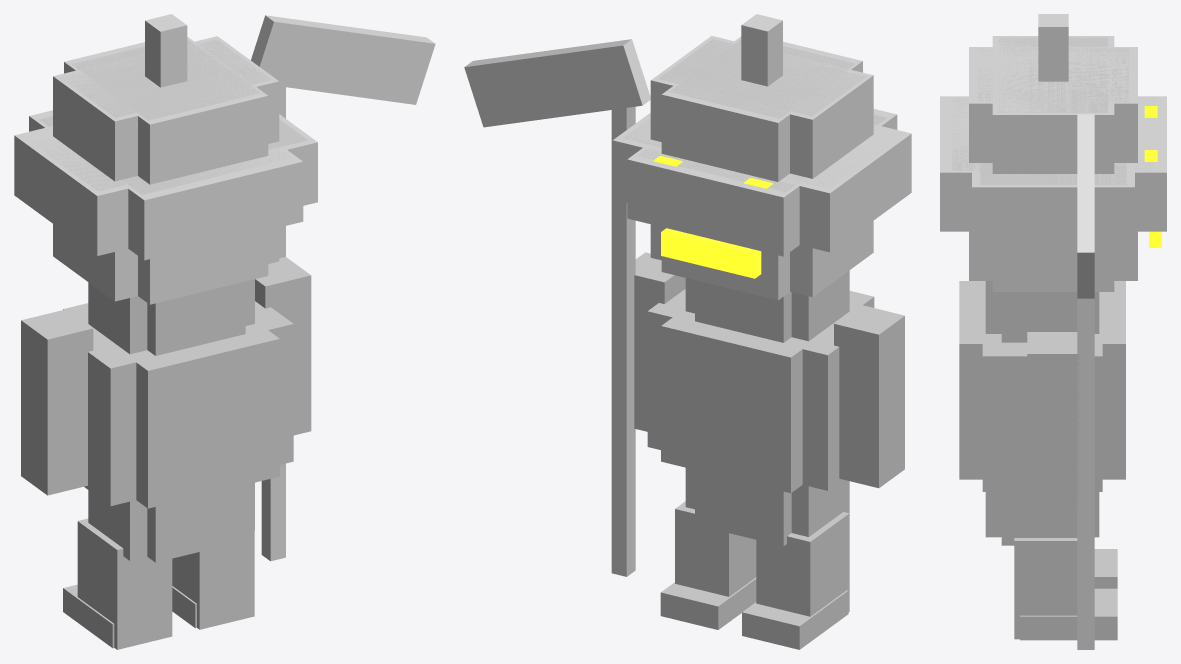
Rendered from PumpkinReaper.fbx.
The picture shows the model from 3 angles, left to right: view 1: azimuth 30°, elevation 25°; view 2: azimuth 150°, elevation 25°; view 3: azimuth 270°, elevation 25°; orthographic projection.
Visible parts, largest first — view 1: Pumpkin Reaper_head_25, Pumpkin Reaper_armL_13, Pumpkin Reaper_body_5, Pumpkin Reaper_armR_31, Pumpkin Reaper_head_24, Pumpkin Reaper_body_3, Pumpkin Reaper_head_27, Pumpkin Reaper_head_26, Pumpkin Reaper_legFL_9, Pumpkin Reaper_head_18, Pumpkin Reaper_body_4, Pumpkin Reaper_head_19 (+15 smaller); view 2: Pumpkin Reaper_head_25, Pumpkin Reaper_body_5, Pumpkin Reaper_armR_31, Pumpkin Reaper_armL_13, Pumpkin Reaper_head_24, Pumpkin Reaper_armR_30, Pumpkin Reaper_body_3, Pumpkin Reaper_head_27, Pumpkin Reaper_head_26, Pumpkin Reaper_legFL_9, Pumpkin Reaper_head_18, Pumpkin Reaper_body_1 (+16 smaller); view 3: Pumpkin Reaper_head_26, Pumpkin Reaper_head_24, Pumpkin Reaper_armR_12, Pumpkin Reaper_head_27, Pumpkin Reaper_head_25, Pumpkin Reaper_body_5, Pumpkin Reaper_armR_30, Pumpkin Reaper_legFR_8, Pumpkin Reaper_head_18, Pumpkin Reaper_body_4, Pumpkin Reaper_head_22, Pumpkin Reaper_body_2 (+13 smaller).
Part boxes in pixels (x1,y1,x2,y2): Pumpkin Reaper_head_25: (29,110,303,260); Pumpkin Reaper_armL_13: (21,309,93,495); Pumpkin Reaper_body_5: (63,303,279,439); Pumpkin Reaper_armR_31: (251,15,435,104); Pumpkin Reaper_head_24: (14,114,317,255); Pumpkin Reaper_body_3: (136,407,279,508); Pumpkin Reaper_head_27: (64,37,268,184); Pumpkin Reaper_head_26: (53,36,279,181); Pumpkin Reaper_legFL_9: (77,518,172,649); Pumpkin Reaper_head_18: (61,39,271,117); Pumpkin Reaper_body_4: (78,301,293,437); Pumpkin Reaper_head_19: (72,39,260,120); Pumpkin Reaper_head_25: (627,109,897,256); Pumpkin Reaper_body_5: (661,291,874,425); Pumpkin Reaper_armR_31: (464,39,650,127); Pumpkin Reaper_armL_13: (834,304,904,488); Pumpkin Reaper_head_24: (612,113,911,252); Pumpkin Reaper_armR_30: (611,101,635,576); Pumpkin Reaper_body_3: (661,394,802,493); Pumpkin Reaper_head_27: (661,36,862,181); Pumpkin Reaper_head_26: (650,36,873,178); Pumpkin Reaper_legFL_9: (756,512,849,616); Pumpkin Reaper_head_18: (658,39,865,116); Pumpkin Reaper_body_1: (695,470,791,546); Pumpkin Reaper_head_26: (992,36,1114,173); Pumpkin Reaper_head_24: (972,163,1134,246); Pumpkin Reaper_armR_12: (1027,332,1079,507); Pumpkin Reaper_head_27: (969,47,1137,162); Pumpkin Reaper_head_25: (940,96,1166,231); Pumpkin Reaper_body_5: (959,281,1125,411); Pumpkin Reaper_armR_30: (1077,298,1094,649); Pumpkin Reaper_legFR_8: (1014,538,1077,639); Pumpkin Reaper_head_18: (999,37,1107,112); Pumpkin Reaper_body_4: (982,281,1102,424); Pumpkin Reaper_head_22: (992,246,1114,291); Pumpkin Reaper_body_2: (982,424,1102,491).
Bounding box in the file's own units: 216 × 298 × 105.
